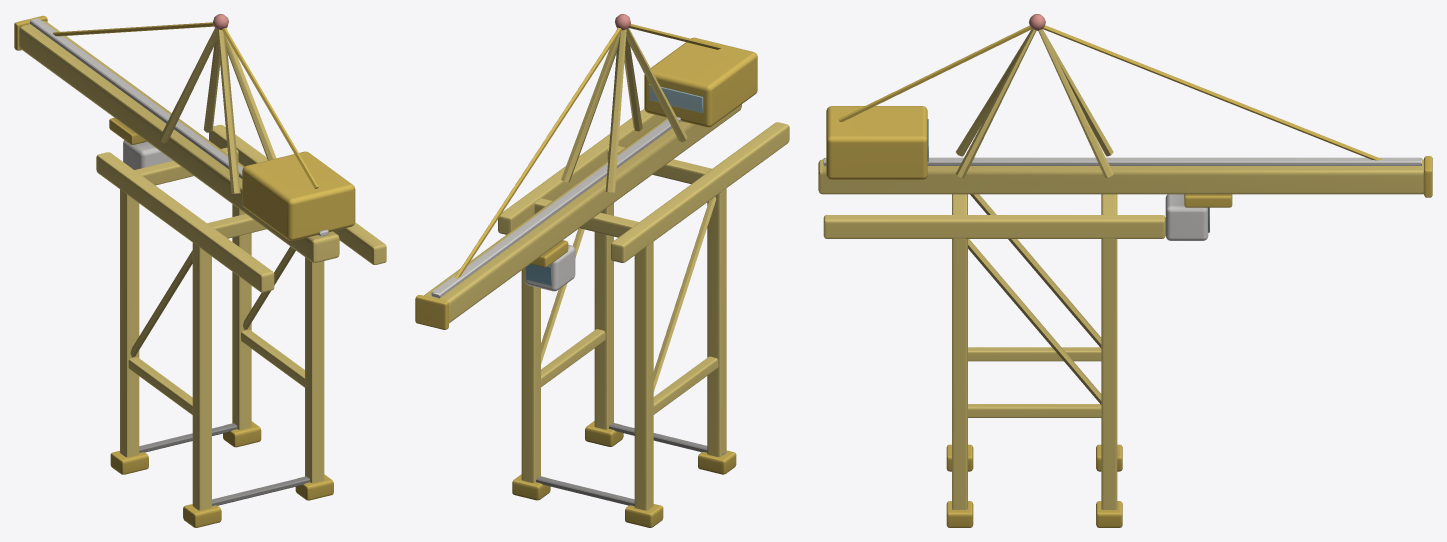
File: crane_gold.glb
3 renders of one model, left to right at view 1: azimuth 30°, elevation 25°; view 2: azimuth 150°, elevation 25°; view 3: azimuth 270°, elevation 25°, orthographic. The views are drawn at different scales.
Parts seen in each view (by area): view 1: crane_gold; view 2: crane_gold; view 3: crane_gold.
Boxes of the visible parts, x1,y1,x2,y2 form: crane_gold: (14, 14, 386, 527); crane_gold: (415, 14, 789, 527); crane_gold: (818, 14, 1432, 527).
Size of the model in its own units: 3.12 by 9.9 by 11.5.
